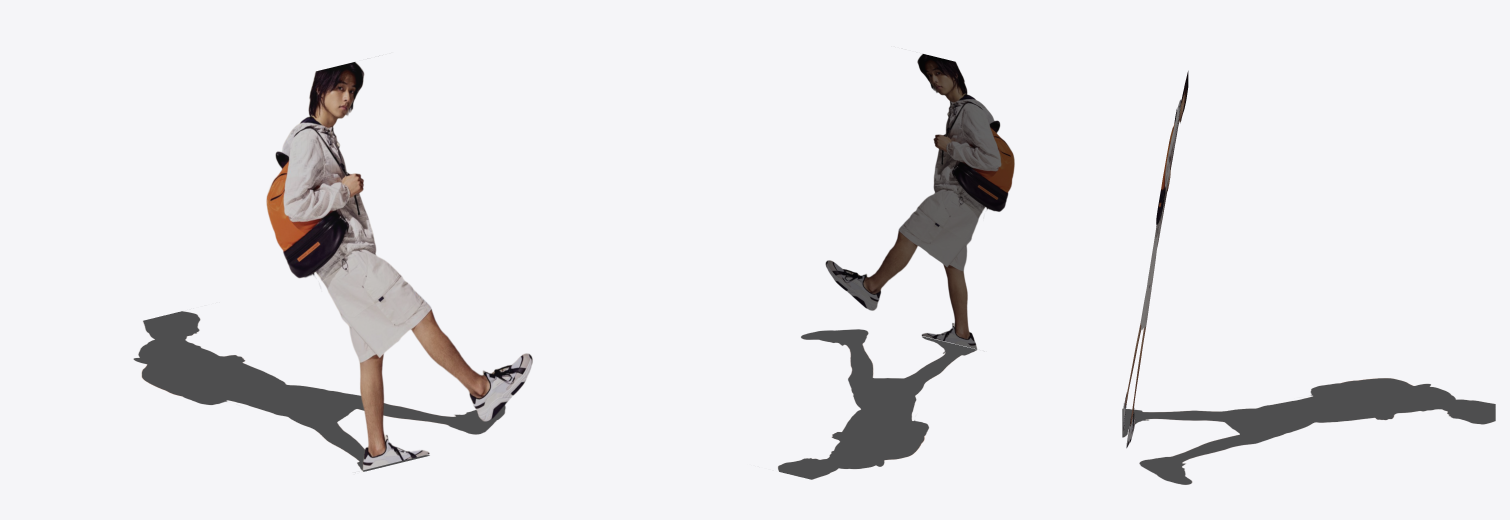
3 views of the same model, side by side, from view 1: azimuth 30°, elevation 25°; view 2: azimuth 150°, elevation 25°; view 3: azimuth 270°, elevation 25° (orthographic). The views are drawn at different scales.
Parts seen in each view (by area): view 1: 平面.001, 平面; view 2: 平面.001, 平面; view 3: 平面, 平面.001.
Part boxes in pixels (x1,y1,x2,y2): 平面.001: [266, 61, 532, 470]; 平面: [133, 311, 505, 471]; 平面.001: [825, 54, 1014, 349]; 平面: [778, 329, 977, 479]; 平面: [1122, 378, 1495, 484]; 平面.001: [1123, 70, 1188, 447].
Size of the model in its own units: 2 by 1.97 by 2.
Materials: 2 (2 with a texture image).
